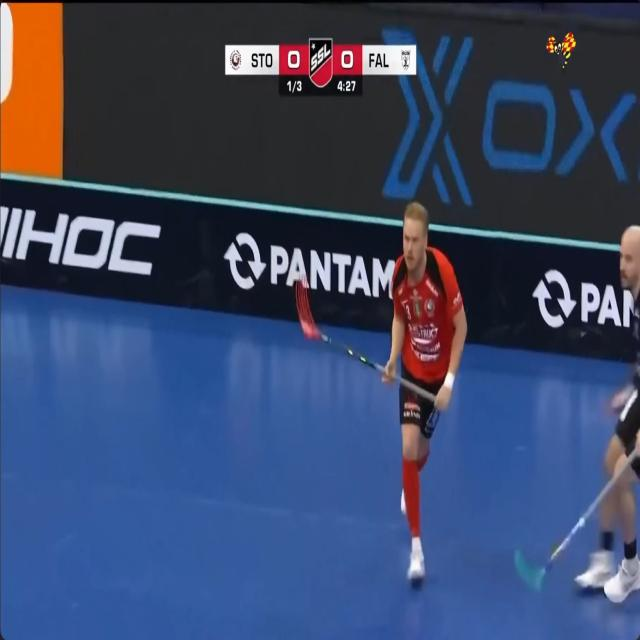player: (383, 203, 467, 580), (575, 458, 640, 602), (604, 225, 640, 477)
stick: (295, 279, 435, 401)
